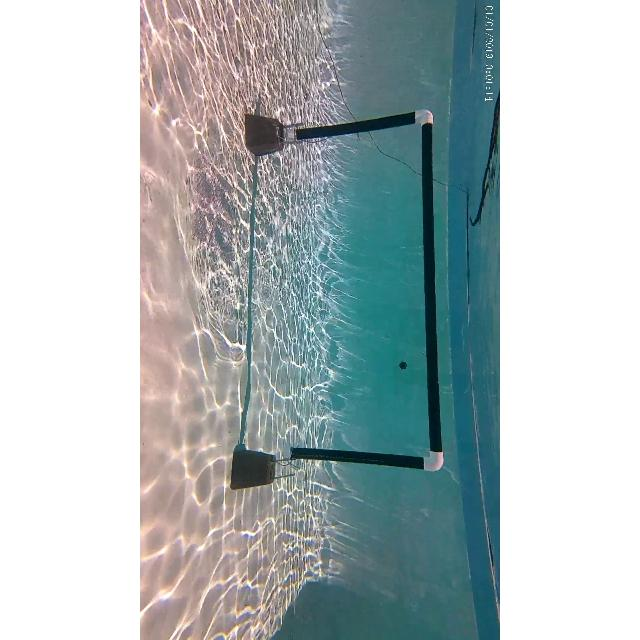prequal gate: (282, 109, 446, 473)
prequal gate leg l: (248, 110, 440, 146)
prequal gate leg r: (236, 438, 444, 482)
